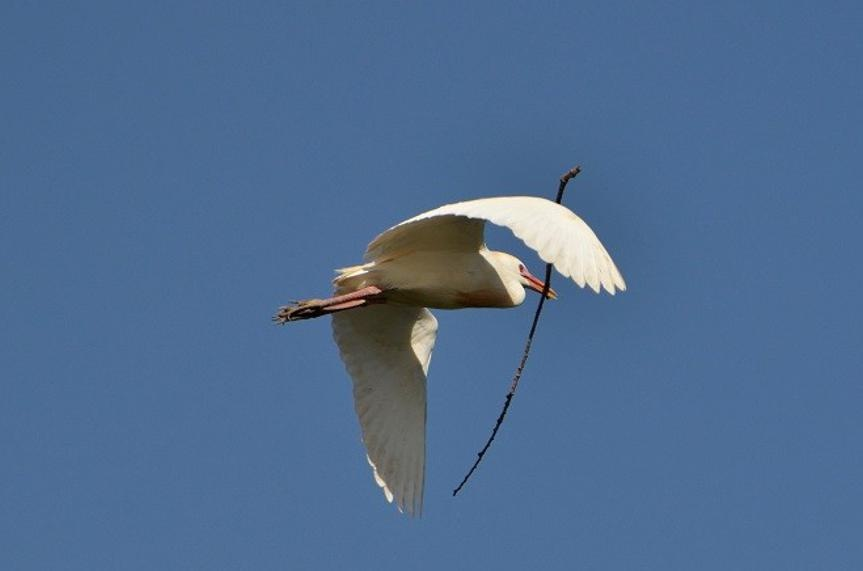egret: (259, 142, 630, 533)
